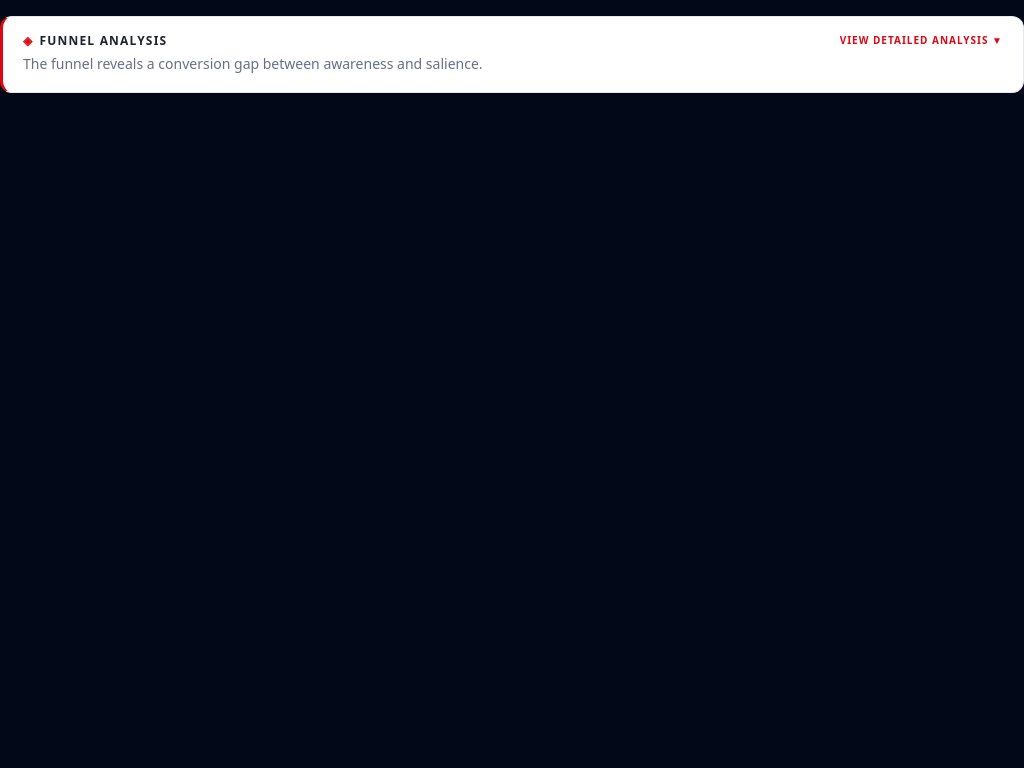
Test: SectionAnalysisBlock › modal closes and hides section grid when close button is clicked
Click the button "VIEW DETAILED ANALYSIS ▼": coordinates (921, 40) [840,33,1003,48]
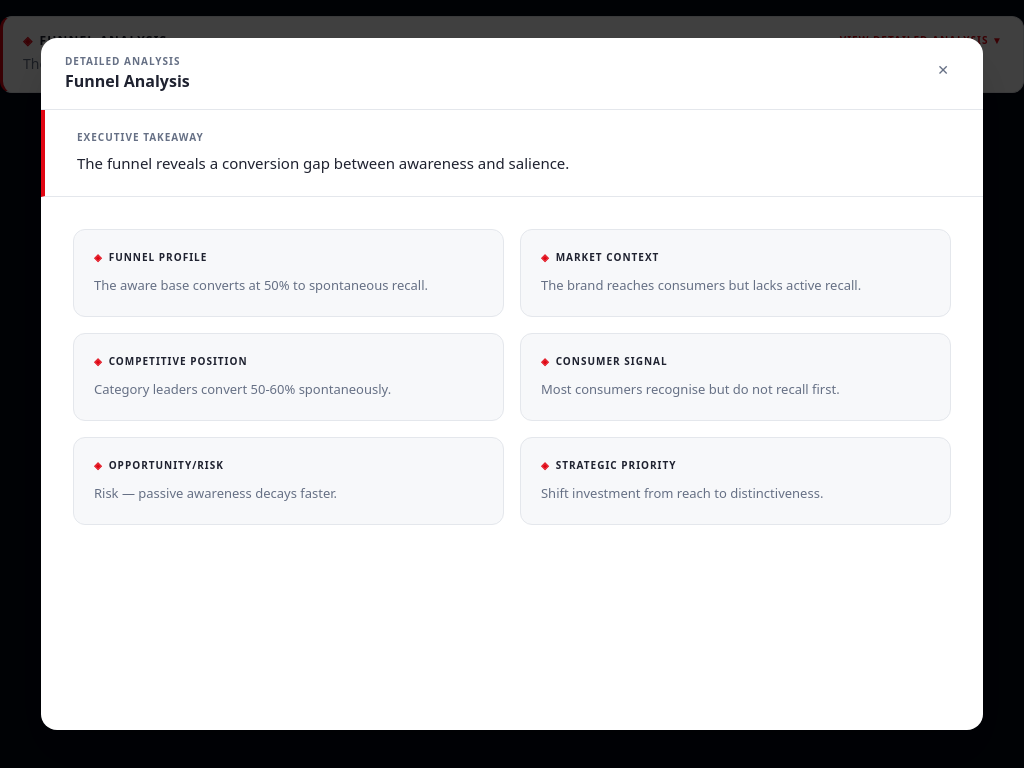
Check: the text "FUNNEL PROFILE" is shown, box [109,250,207,264]
Click the button named "Close analysis": coordinates (943, 70) [927,54,959,86]
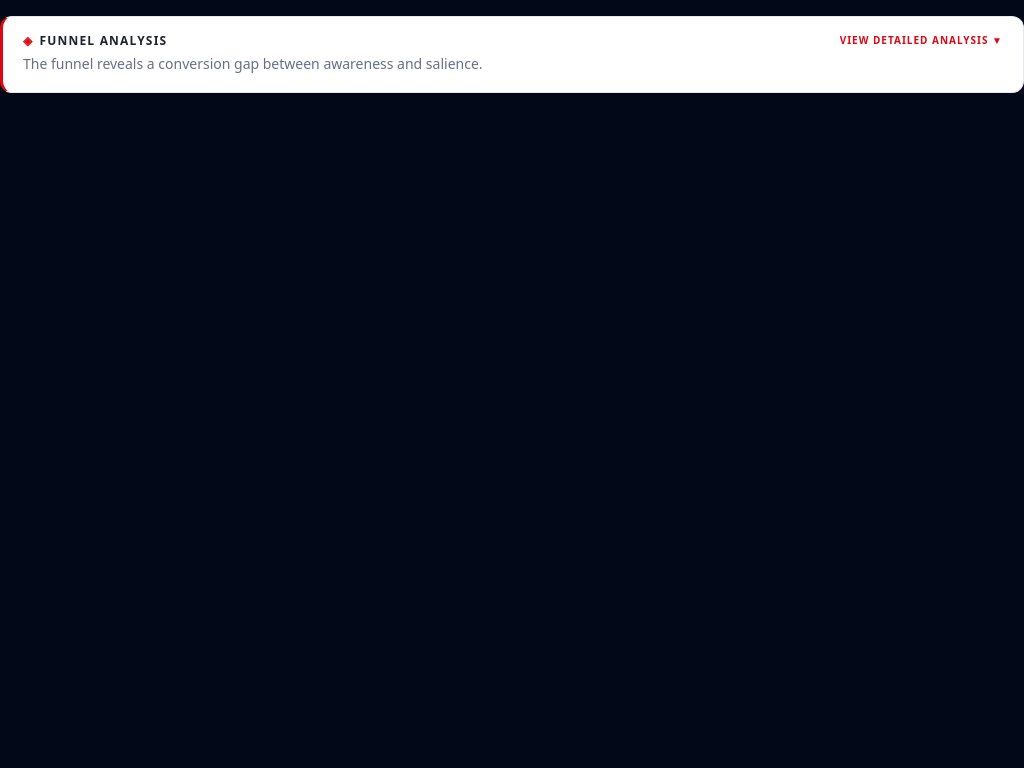
Check: the text "FUNNEL PROFILE" is gone
